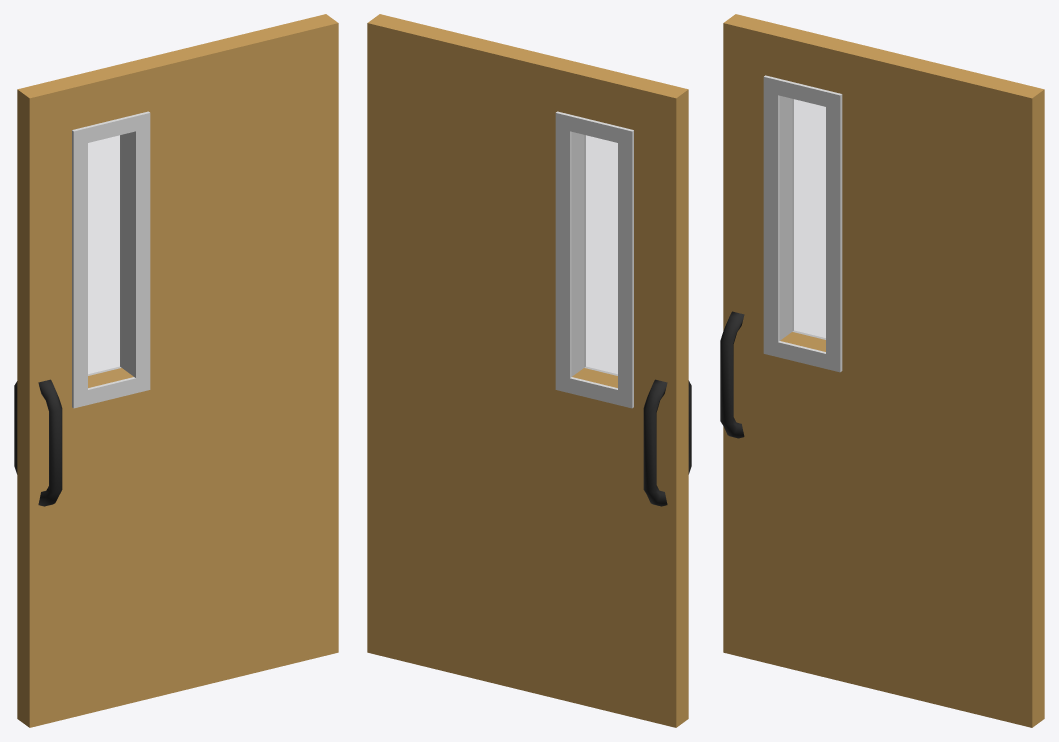
The model's file is Porte.FBX.
The picture shows the model from 3 angles, left to right: view 1: azimuth 30°, elevation 25°; view 2: azimuth 150°, elevation 25°; view 3: azimuth 330°, elevation 25°; orthographic projection.
Visible parts, largest first — view 1: Box001; view 2: Box001; view 3: Box001.
Part boxes in pixels (bbox=[...]): Box001: bbox=[14, 14, 338, 727]; Box001: bbox=[367, 14, 691, 727]; Box001: bbox=[720, 14, 1044, 727].
Size of the model in its own units: 50.33 by 98.05 by 10.93.
